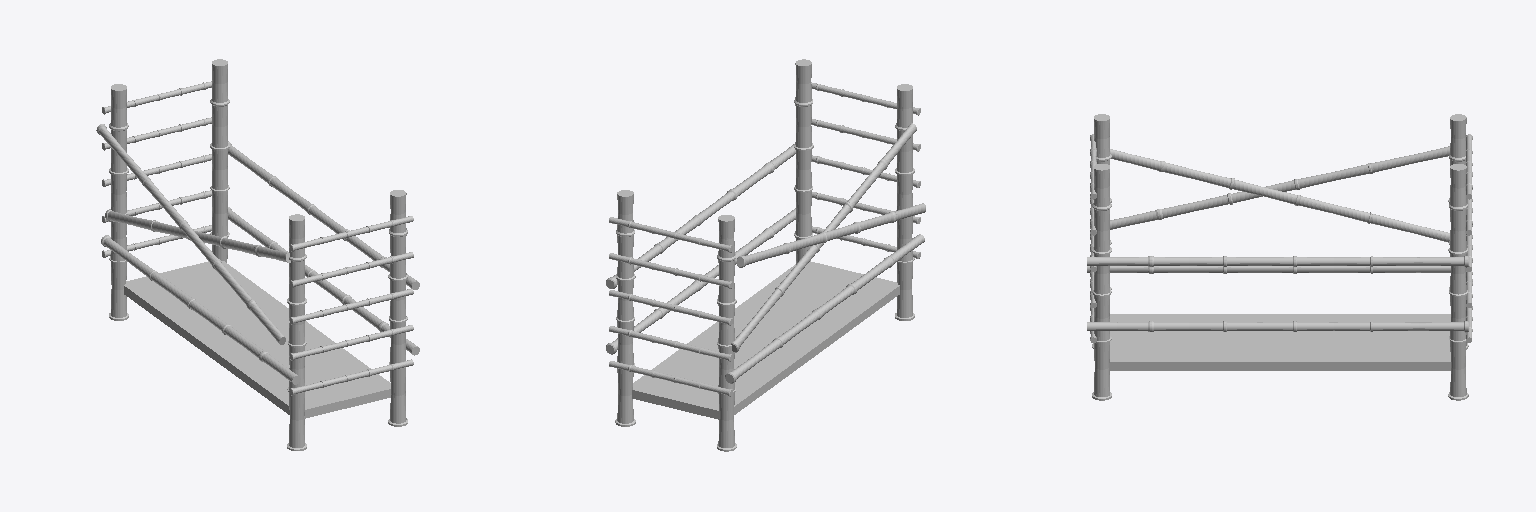
The model's file is echafaudage bloc 3.obj.
The picture shows the model from 3 angles: view 1: azimuth 30°, elevation 25°; view 2: azimuth 150°, elevation 25°; view 3: azimuth 270°, elevation 25°; orthographic projection.
Parts seen in each view (by area): view 1: Cube.002_Cube.007, Cylindre.015_Cylindre.046, Cylindre.012_Cylindre.044, Cylindre.014_Cylindre.045, Cylindre.016_Cylindre.047, Cylindre.049_Cylindre.080, Cylindre.047_Cylindre.078, Cylindre.051_Cylindre.082, Cylindre.048_Cylindre.079, Cylindre.050_Cylindre.081, Cylindre.045_Cylindre.076, Cylindre.042_Cylindre.073 (+6 smaller); view 2: Cube.002_Cube.007, Cylindre.016_Cylindre.047, Cylindre.014_Cylindre.045, Cylindre.012_Cylindre.044, Cylindre.015_Cylindre.046, Cylindre.048_Cylindre.079, Cylindre.047_Cylindre.078, Cylindre.049_Cylindre.080, Cylindre.051_Cylindre.082, Cylindre.050_Cylindre.081, Cylindre.038_Cylindre.069, Cylindre.041_Cylindre.072 (+6 smaller); view 3: Cube.002_Cube.007, Cylindre.016_Cylindre.047, Cylindre.050_Cylindre.081, Cylindre.051_Cylindre.082, Cylindre.015_Cylindre.046, Cylindre.048_Cylindre.079, Cylindre.049_Cylindre.080, Cylindre.047_Cylindre.078, Cylindre.012_Cylindre.044, Cylindre.014_Cylindre.045.
Boxes of the visible parts, x1=… form: Cube.002_Cube.007: x1=124, y1=261, x2=390, y2=418; Cylindre.015_Cylindre.046: x1=388, y1=190, x2=407, y2=426; Cylindre.012_Cylindre.044: x1=109, y1=84, x2=128, y2=320; Cylindre.014_Cylindre.045: x1=287, y1=214, x2=306, y2=450; Cylindre.016_Cylindre.047: x1=210, y1=59, x2=229, y2=262; Cylindre.049_Cylindre.080: x1=96, y1=124, x2=285, y2=344; Cylindre.047_Cylindre.078: x1=101, y1=235, x2=300, y2=384; Cylindre.051_Cylindre.082: x1=228, y1=141, x2=419, y2=289; Cylindre.048_Cylindre.079: x1=105, y1=209, x2=290, y2=262; Cylindre.050_Cylindre.081: x1=228, y1=207, x2=419, y2=355; Cylindre.045_Cylindre.076: x1=289, y1=252, x2=413, y2=287; Cylindre.042_Cylindre.073: x1=289, y1=359, x2=413, y2=395; Cube.002_Cube.007: x1=632, y1=261, x2=899, y2=419; Cylindre.016_Cylindre.047: x1=615, y1=190, x2=635, y2=426; Cylindre.014_Cylindre.045: x1=895, y1=84, x2=914, y2=320; Cylindre.012_Cylindre.044: x1=717, y1=215, x2=736, y2=451; Cylindre.015_Cylindre.046: x1=794, y1=59, x2=813, y2=263; Cylindre.048_Cylindre.079: x1=731, y1=123, x2=916, y2=352; Cylindre.047_Cylindre.078: x1=725, y1=234, x2=924, y2=383; Cylindre.049_Cylindre.080: x1=737, y1=203, x2=925, y2=267; Cylindre.051_Cylindre.082: x1=606, y1=144, x2=795, y2=288; Cylindre.050_Cylindre.081: x1=606, y1=208, x2=795, y2=354; Cylindre.038_Cylindre.069: x1=609, y1=253, x2=732, y2=288; Cylindre.041_Cylindre.072: x1=609, y1=361, x2=732, y2=396; Cube.002_Cube.007: x1=1109, y1=314, x2=1450, y2=370; Cylindre.016_Cylindre.047: x1=1448, y1=164, x2=1468, y2=400; Cylindre.050_Cylindre.081: x1=1087, y1=321, x2=1468, y2=332; Cylindre.051_Cylindre.082: x1=1087, y1=256, x2=1468, y2=266; Cylindre.015_Cylindre.046: x1=1092, y1=164, x2=1111, y2=400; Cylindre.048_Cylindre.079: x1=1110, y1=149, x2=1449, y2=242; Cylindre.049_Cylindre.080: x1=1110, y1=146, x2=1449, y2=229; Cylindre.047_Cylindre.078: x1=1087, y1=266, x2=1450, y2=273; Cylindre.012_Cylindre.044: x1=1448, y1=114, x2=1468, y2=349; Cylindre.014_Cylindre.045: x1=1092, y1=114, x2=1111, y2=348.
Bounding box in the file's own units: 3.61 × 5.79 × 8.82.